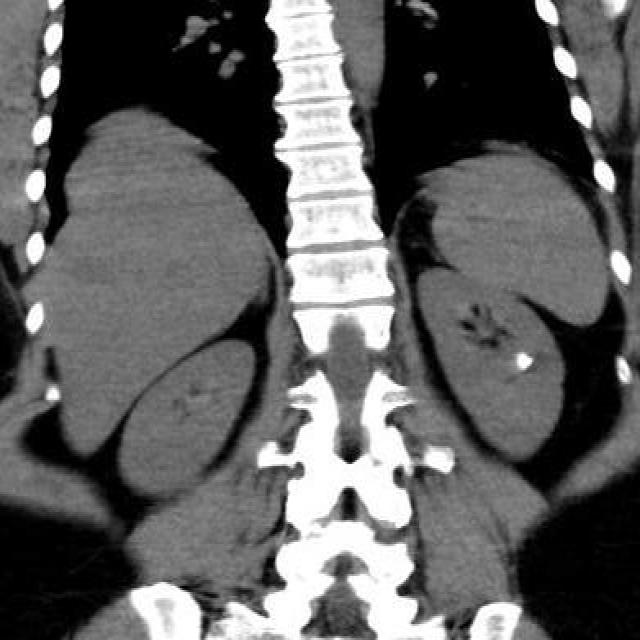Tas_Var: (514, 348, 538, 370)
